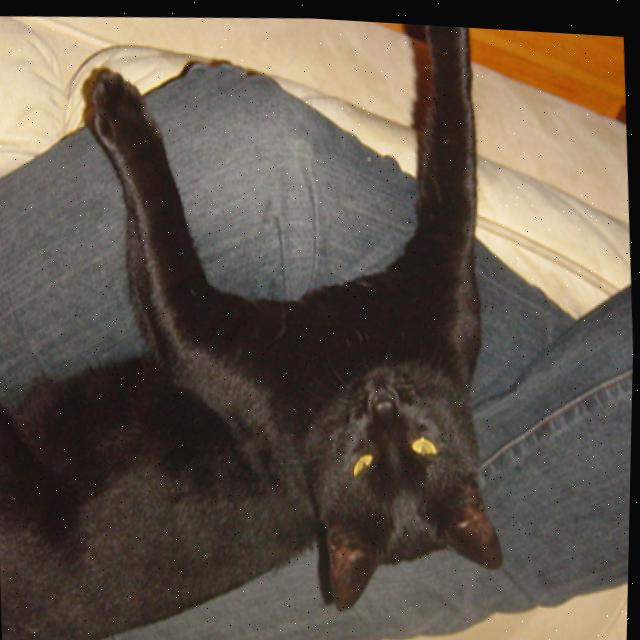Bombay: (0, 0, 524, 640)
